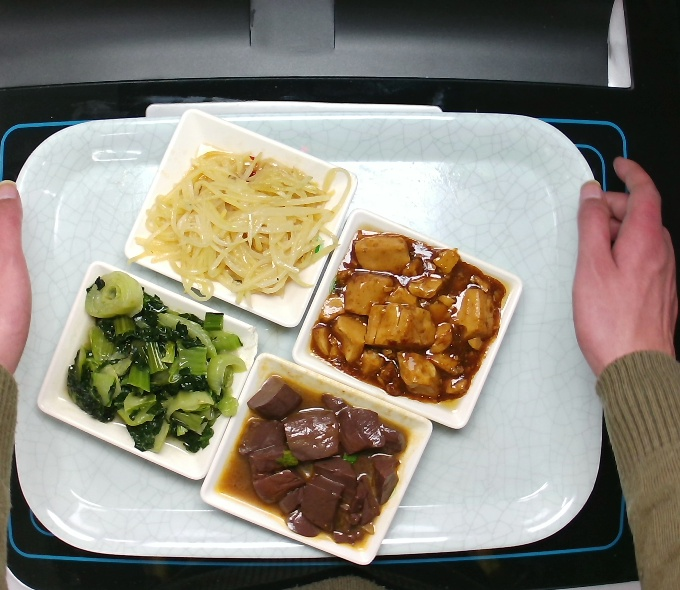wcq-MaPoDouFu: (303, 224, 492, 423)
wcq-NiuXue: (217, 367, 406, 566)
wcq-TuDouSi: (133, 136, 355, 305)
wcq-YouDongCai: (57, 263, 246, 462)
